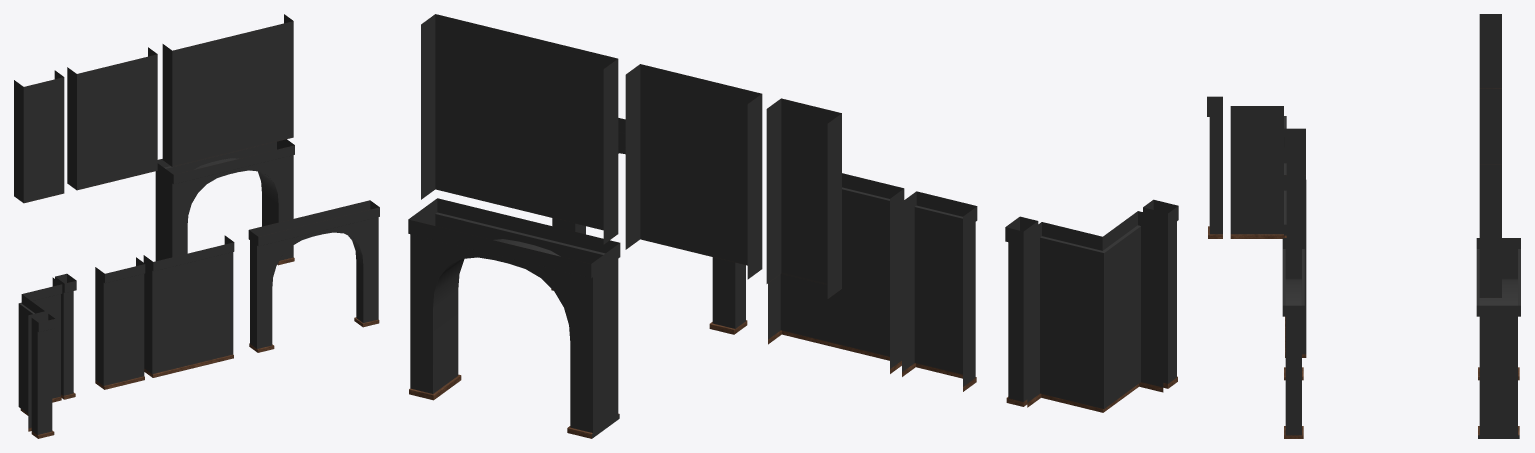
File: Walls.fbx
The picture shows the model from 3 angles, left to right: view 1: azimuth 30°, elevation 25°; view 2: azimuth 150°, elevation 25°; view 3: azimuth 270°, elevation 25°; orthographic projection. The views are drawn at different scales.
Parts seen in each view (by area): view 1: Wall_3m_flat, Wall_2m_flat, Wall_2m, Wall_archway_type_1, Wall_archway_type_2, Wall_1m_flat, Wall_1m, Wall_Corner, Wall_pillar_leftSided, Wall_pillar_rightSided; view 2: Wall_3m_flat, Wall_archway_type_2, Wall_2m_flat, Wall_Corner, Wall_2m, Wall_1m_flat, Wall_1m, Wall_pillar_rightSided, Wall_archway_type_1, Wall_pillar_leftSided; view 3: Wall_Corner, Wall_archway_type_2, Wall_3m_flat, Wall_archway_type_1, Wall_pillar_leftSided, Wall_2m, Wall_2m_flat, Wall_1m_flat, Wall_1m, Wall_pillar_rightSided.
Boxes of the visible parts, <box> form: Wall_3m_flat: <box>162,14,293,166</box>; Wall_2m_flat: <box>67,47,157,190</box>; Wall_2m: <box>143,235,234,377</box>; Wall_archway_type_1: <box>248,200,379,352</box>; Wall_archway_type_2: <box>155,139,294,265</box>; Wall_1m_flat: <box>14,70,64,203</box>; Wall_1m: <box>95,257,145,389</box>; Wall_Corner: <box>18,277,62,431</box>; Wall_pillar_leftSided: <box>31,313,55,438</box>; Wall_pillar_rightSided: <box>55,273,76,399</box>; Wall_3m_flat: <box>421,14,618,244</box>; Wall_archway_type_2: <box>408,198,620,438</box>; Wall_2m_flat: <box>625,64,762,279</box>; Wall_Corner: <box>1027,211,1163,412</box>; Wall_2m: <box>768,173,904,373</box>; Wall_1m_flat: <box>766,98,841,298</box>; Wall_1m: <box>902,191,977,391</box>; Wall_pillar_rightSided: <box>1005,216,1038,406</box>; Wall_archway_type_1: <box>551,118,747,334</box>; Wall_pillar_leftSided: <box>1143,199,1178,388</box>; Wall_Corner: <box>1230,106,1305,238</box>; Wall_archway_type_2: <box>1476,238,1520,438</box>; Wall_3m_flat: <box>1479,97,1501,297</box>; Wall_archway_type_1: <box>1282,238,1304,438</box>; Wall_pillar_leftSided: <box>1207,96,1222,238</box>; Wall_2m: <box>1284,179,1306,357</box>; Wall_2m_flat: <box>1479,43,1501,96</box>; Wall_1m_flat: <box>1479,14,1501,43</box>; Wall_1m: <box>1284,152,1305,179</box>; Wall_pillar_rightSided: <box>1284,130,1305,152</box>.
Size of the model in its own units: 925 by 566 by 587.
